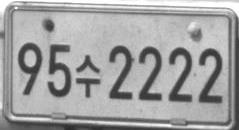2: (166, 46, 193, 103), (197, 47, 223, 103), (137, 45, 162, 100), (108, 45, 133, 99)
5: (46, 43, 72, 97)
9: (17, 41, 43, 95)
수: (75, 54, 101, 98)
